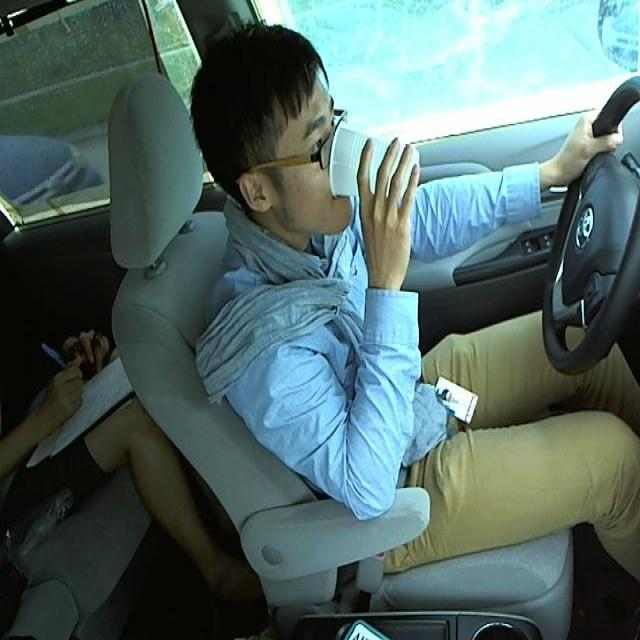drinking: (324, 107, 424, 208)
